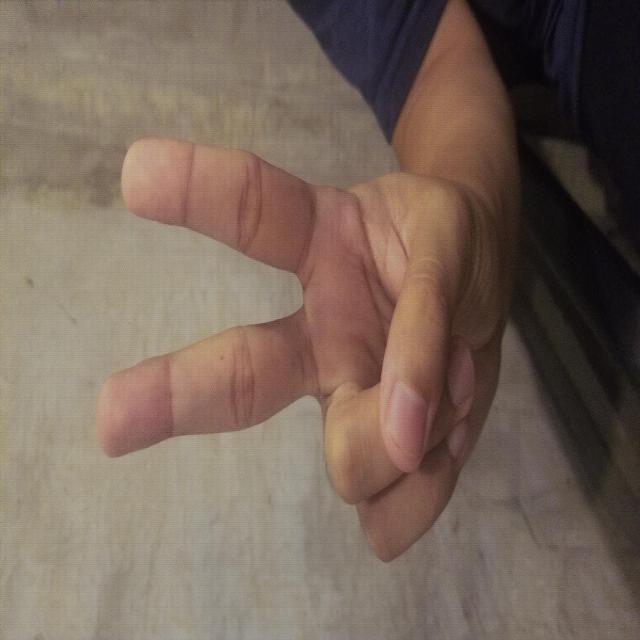V: (83, 93, 508, 505)
